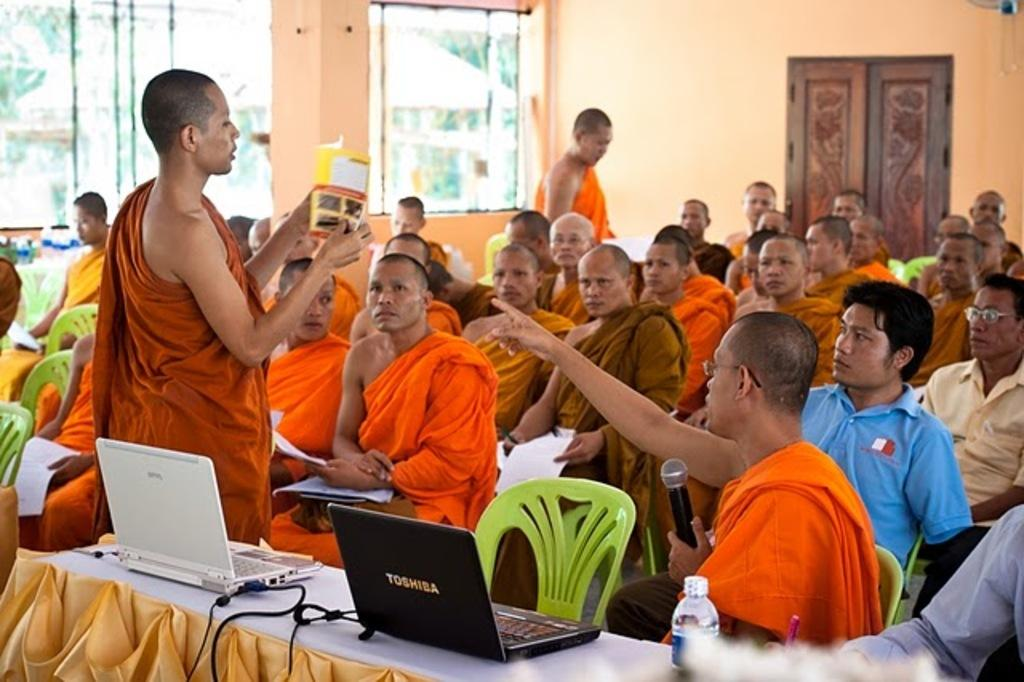Laptop: (328, 503, 598, 663), (99, 440, 323, 597)
